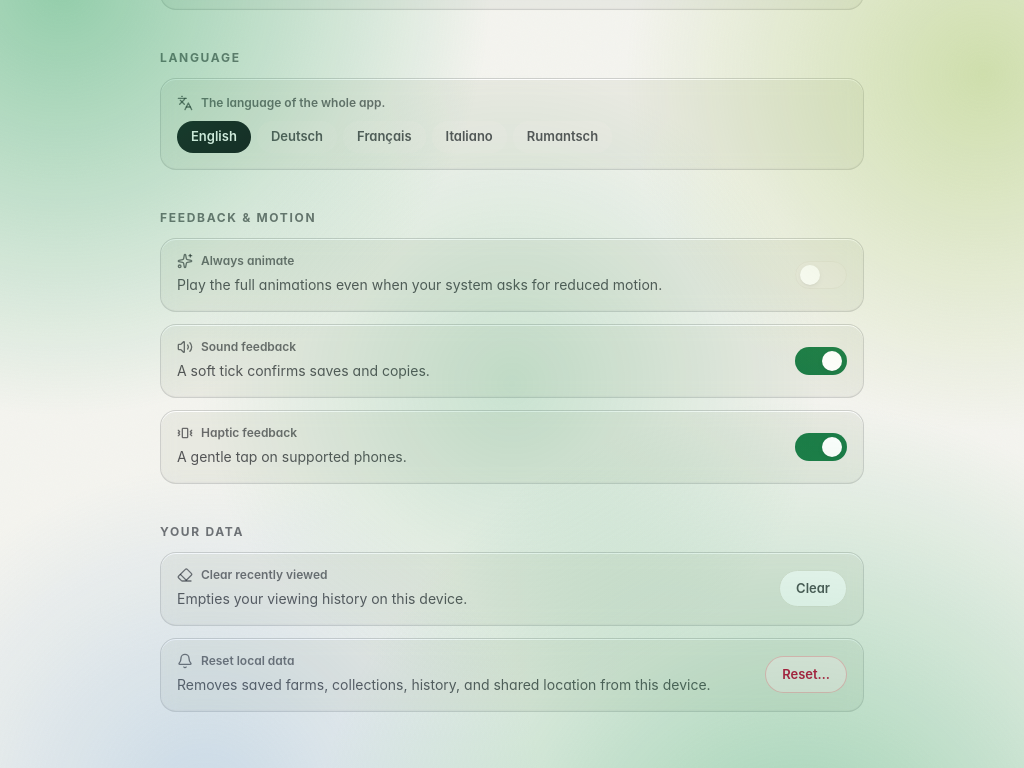
Test: SettingsView › reset requires a second confirming tap
The image size is (1024, 768).
(page scrolled)
Step 1. Click the button "Reset…" → x=806, y=675, box [765, 656, 847, 693]
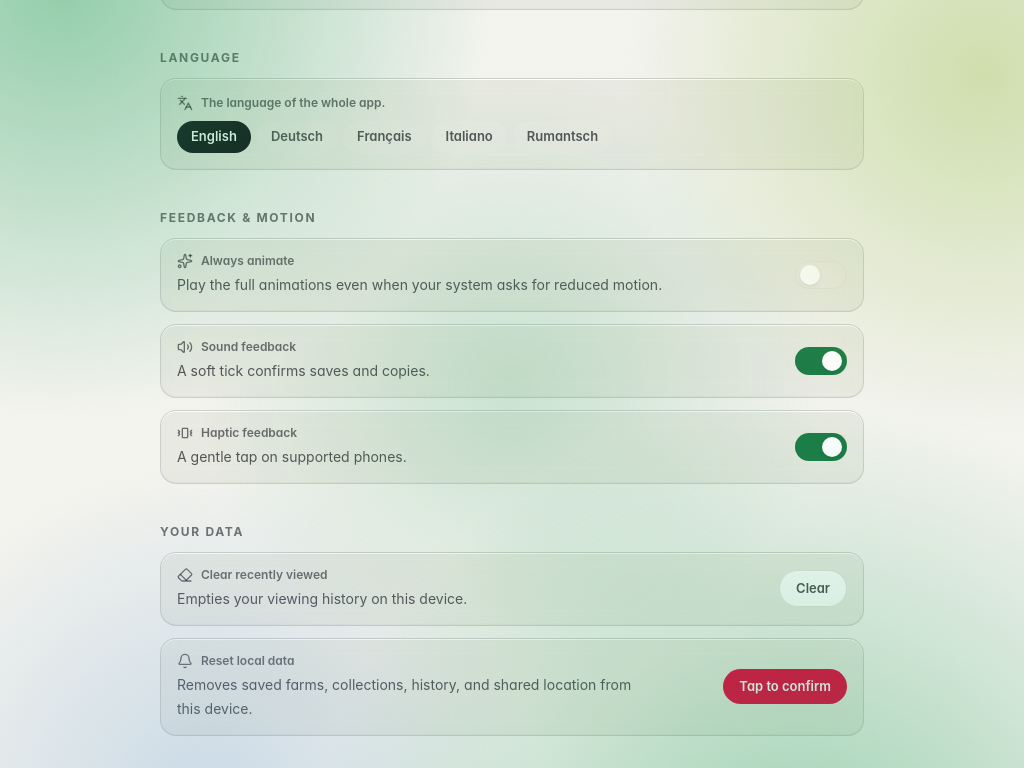
Check: the button "Tap to confirm" is shown, box [723, 669, 847, 704]
